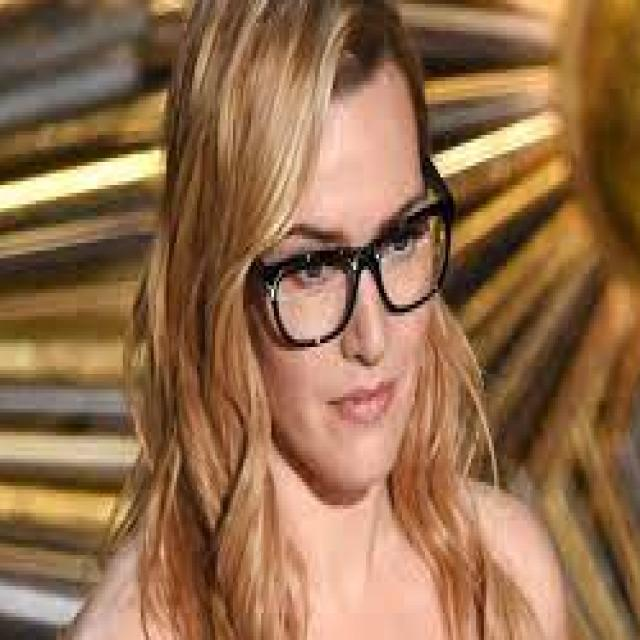Glasses: (246, 154, 462, 352)
